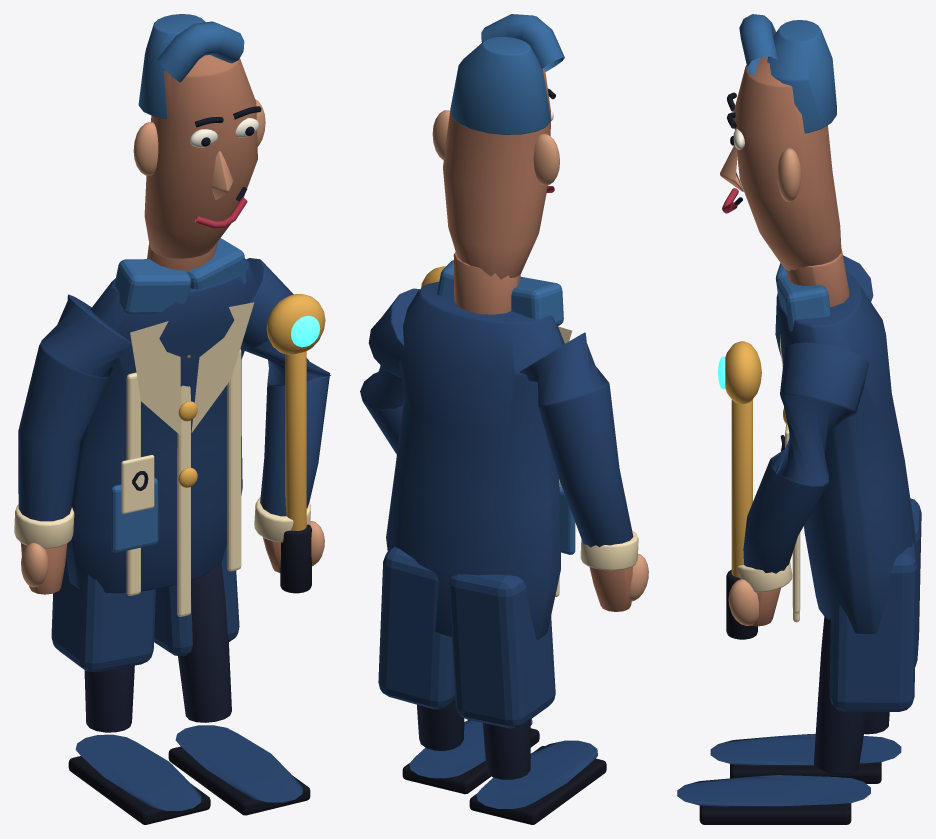
Rendered from 01-queuejack-refined.glb.
3 renders of one model, left to right at view 1: azimuth 30°, elevation 25°; view 2: azimuth 150°, elevation 25°; view 3: azimuth 270°, elevation 25°, orthographic. The views are drawn at different scales.
Parts seen in each view (by area): view 1: QJ_CoatTailored, QJ_HeadSculpt, QJ_Arm_L, QJ_Arm_R, QJ_CoatTail_L, QJ_Leg_R, QJ_Shoe_R, QJ_Shoe_L, QJ_BatonRod, QJ_Lapel_L, QJ_Collar_L, QJ_CoatTail_R (+22 smaller); view 2: QJ_CoatTailored, QJ_CoatTail_L, QJ_Arm_L, QJ_HeadSculpt, QJ_CoatTail_R, QJ_HairCap, QJ_Arm_R, QJ_Shoe_L, QJ_Neck, QJ_Leg_L, QJ_Shoe_R, QJ_Sole_L (+10 smaller); view 3: QJ_CoatTailored, QJ_Arm_R, QJ_HeadSculpt, QJ_CoatTail_R, QJ_Shoe_R, QJ_HairCap, QJ_Leg_R, QJ_Shoe_L, QJ_BatonRod, QJ_Sole_R, QJ_BatonTop, QJ_Collar_R (+13 smaller).
Part boxes in pixels (x1,y1,x2,y2): QJ_CoatTailored: (66, 258, 254, 593); QJ_HeadSculpt: (144, 55, 257, 258); QJ_Arm_L: (18, 294, 131, 521); QJ_Arm_R: (241, 258, 330, 516); QJ_CoatTail_L: (51, 555, 155, 672); QJ_Leg_R: (178, 562, 231, 722); QJ_Shoe_R: (175, 725, 302, 802); QJ_Shoe_L: (75, 734, 201, 810); QJ_BatonRod: (285, 351, 306, 530); QJ_Lapel_L: (130, 321, 180, 435); QJ_Collar_L: (114, 259, 191, 315); QJ_CoatTail_R: (154, 544, 239, 655); QJ_CoatTailored: (386, 281, 564, 639); QJ_CoatTail_L: (449, 574, 555, 728); QJ_Arm_L: (520, 332, 633, 547); QJ_HeadSculpt: (443, 68, 550, 279); QJ_CoatTail_R: (378, 546, 455, 709); QJ_HairCap: (450, 36, 550, 134); QJ_Arm_R: (360, 288, 419, 454); QJ_Shoe_L: (476, 740, 597, 808); QJ_Neck: (453, 252, 520, 314); QJ_Leg_L: (482, 719, 530, 779); QJ_Shoe_R: (409, 719, 532, 778); QJ_Sole_L: (469, 746, 606, 824); QJ_CoatTailored: (775, 272, 915, 633); QJ_Arm_R: (743, 342, 868, 573); QJ_HeadSculpt: (733, 56, 841, 271); QJ_CoatTail_R: (829, 542, 916, 711); QJ_Shoe_R: (677, 775, 870, 806); QJ_HairCap: (767, 20, 836, 133); QJ_Leg_R: (814, 615, 867, 774); QJ_Shoe_L: (710, 734, 901, 765); QJ_BatonRod: (731, 399, 752, 577); QJ_Sole_R: (699, 803, 851, 824); QJ_BatonTop: (725, 341, 761, 404); QJ_Collar_R: (777, 276, 830, 331).
Size of the model in its own units: 1.12 by 2.8 by 0.8058.
